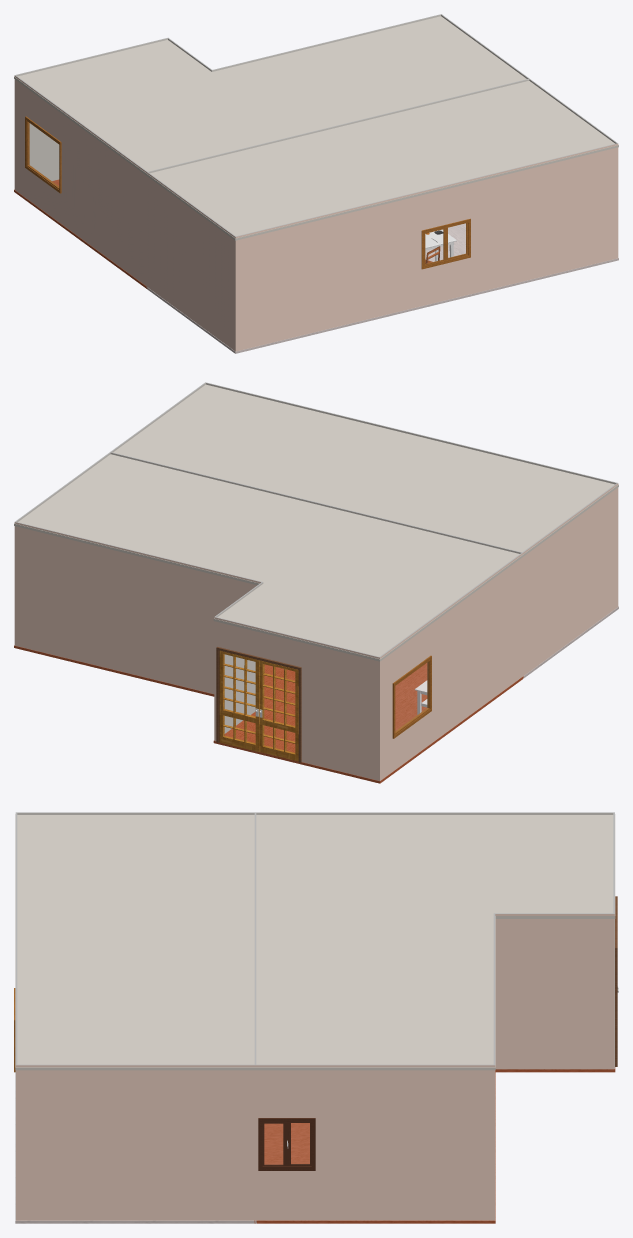
File: ProcTHOR-Train-9.glb
3 views of the same model, one above another, from view 1: azimuth 30°, elevation 25°; view 2: azimuth 150°, elevation 25°; view 3: azimuth 270°, elevation 25° (orthographic). The views are drawn at different scales.
Visible parts, largest first — view 1: WallInside#wall|exterior|0.00|9.53|9.53|9.53, Ceiling#room|3|c, Ceiling#room|2|c, WallInside#wall|exterior|9.53|0.00|9.53|5.72, WallInside#wall|exterior|9.53|5.72|9.53|9.53, Floor#room|2|f, WallInside#wall|3|5.72|0.00|9.53|0.00, Window_Slider_48x36, WallInside#wall|2|0.00|5.72|9.53|5.72, Window_Fixed_60x48, WallInside#wall|3|0.00|1.91|5.72|1.91, Dining_Table_221_1; view 2: Ceiling#room|3|c, Ceiling#room|2|c, WallInside#wall|exterior|0.00|1.91|5.72|1.91, WallInside#wall|exterior|9.53|0.00|9.53|5.72, WallInside#wall|exterior|5.72|0.00|9.53|0.00, WallInside#wall|exterior|9.53|5.72|9.53|9.53, Floor#room|3|f, Doorway_Door_5b, Doorway_Door_5a, WallInside#wall|3|5.72|0.00|5.72|1.91, Doorway_Double_5, WallInside#wall|2|0.00|9.53|9.53|9.53 (+2 smaller); view 3: Ceiling#room|3|c, Ceiling#room|2|c, WallInside#wall|exterior|0.00|5.72|0.00|9.53, WallInside#wall|exterior|0.00|1.91|0.00|5.72, WallInside#wall|exterior|5.72|0.00|5.72|1.91, Floor#room|3|f, Window_Slider_36x36, Floor#room|2|f, WallInside#wall|3|9.53|0.00|9.53|5.72, WallInside#wall|2|9.53|5.72|9.53|9.53, WallInside#wall|exterior|0.00|9.53|9.53|9.53.
Part boxes in pixels (<box>): WallInside#wall|exterior|0.00|9.53|9.53|9.53: <box>235,143,618,351</box>; Ceiling#room|3|c: <box>14,16,526,175</box>; Ceiling#room|2|c: <box>146,81,618,240</box>; WallInside#wall|exterior|9.53|0.00|9.53|5.72: <box>14,75,147,286</box>; WallInside#wall|exterior|9.53|5.72|9.53|9.53: <box>147,172,235,351</box>; Floor#room|2|f: <box>146,223,618,353</box>; WallInside#wall|3|5.72|0.00|9.53|0.00: <box>15,38,167,180</box>; Window_Slider_48x36: <box>421,218,470,269</box>; WallInside#wall|2|0.00|5.72|9.53|5.72: <box>148,79,529,172</box>; Window_Fixed_60x48: <box>25,116,61,193</box>; WallInside#wall|3|0.00|1.91|5.72|1.91: <box>212,14,441,71</box>; Dining_Table_221_1: <box>425,229,456,261</box>; Ceiling#room|3|c: <box>14,454,523,661</box>; Ceiling#room|2|c: <box>111,384,618,556</box>; WallInside#wall|exterior|0.00|1.91|5.72|1.91: <box>14,522,262,694</box>; WallInside#wall|exterior|9.53|0.00|9.53|5.72: <box>380,553,523,780</box>; WallInside#wall|exterior|5.72|0.00|9.53|0.00: <box>214,617,379,780</box>; WallInside#wall|exterior|9.53|5.72|9.53|9.53: <box>522,483,618,675</box>; Floor#room|3|f: <box>14,645,523,783</box>; Doorway_Door_5b: <box>219,651,259,751</box>; Doorway_Door_5a: <box>259,660,298,761</box>; WallInside#wall|3|5.72|0.00|5.72|1.91: <box>215,582,263,733</box>; Doorway_Double_5: <box>216,647,301,762</box>; WallInside#wall|2|0.00|9.53|9.53|9.53: <box>206,382,617,484</box>; Ceiling#room|3|c: <box>254,814,615,1070</box>; Ceiling#room|2|c: <box>15,814,256,1070</box>; WallInside#wall|exterior|0.00|5.72|0.00|9.53: <box>16,1065,256,1220</box>; WallInside#wall|exterior|0.00|1.91|0.00|5.72: <box>255,1065,495,1220</box>; WallInside#wall|exterior|5.72|0.00|5.72|1.91: <box>494,913,614,1069</box>; Floor#room|3|f: <box>254,1067,615,1223</box>; Window_Slider_36x36: <box>258,1118,315,1170</box>; Floor#room|2|f: <box>15,1072,256,1223</box>; WallInside#wall|3|9.53|0.00|9.53|5.72: <box>255,812,614,814</box>; WallInside#wall|2|9.53|5.72|9.53|9.53: <box>16,812,254,814</box>; WallInside#wall|exterior|0.00|9.53|9.53|9.53: <box>15,812,16,1220</box>.
Size of what is drawn, in the model's own units: 9.61 by 2.78 by 9.65.
189 materials, 86 textured.
